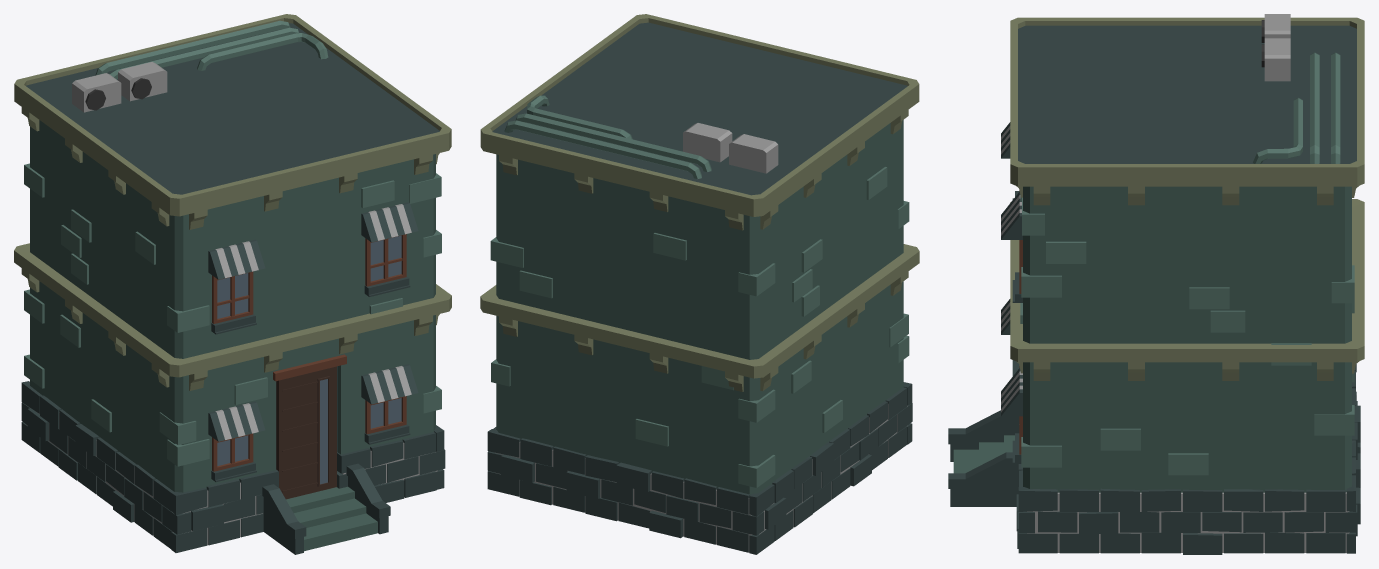
The model's file is 2Story.glb.
The picture shows the model from 3 angles, left to right: view 1: azimuth 30°, elevation 25°; view 2: azimuth 150°, elevation 25°; view 3: azimuth 270°, elevation 25°; orthographic projection. The views are drawn at different scales.
Parts seen in each view (by area): view 1: 2Story_Mat; view 2: 2Story_Mat; view 3: 2Story_Mat.
Part boxes in pixels (left/top/right/bottom): 2Story_Mat: left=14, top=14, right=451, bottom=554; 2Story_Mat: left=480, top=14, right=919, bottom=554; 2Story_Mat: left=948, top=14, right=1364, bottom=554.
Bounding box in the file's own units: 2.16 × 2.75 × 2.53.
